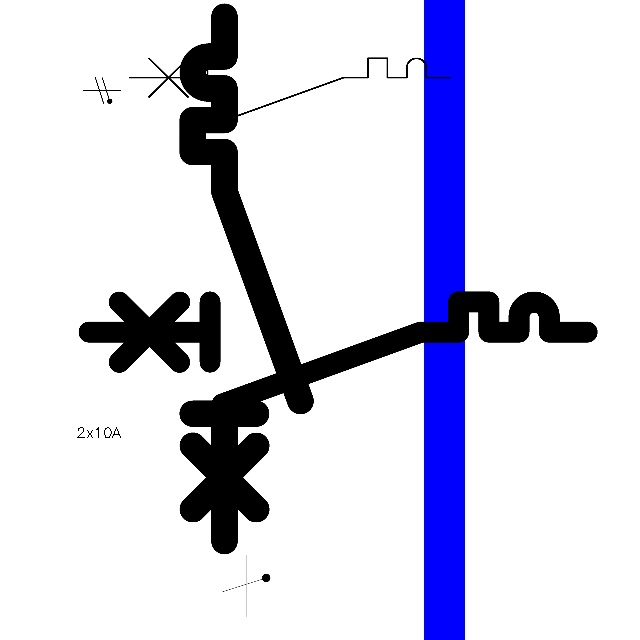interruptor_termomagnetico: (179, 3, 314, 554), (76, 289, 600, 417), (121, 50, 459, 132)
